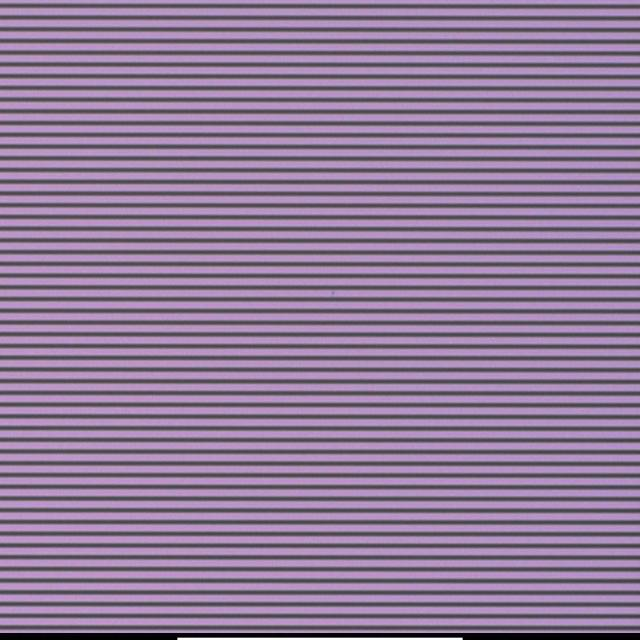nonvisual: (325, 287, 340, 299)
